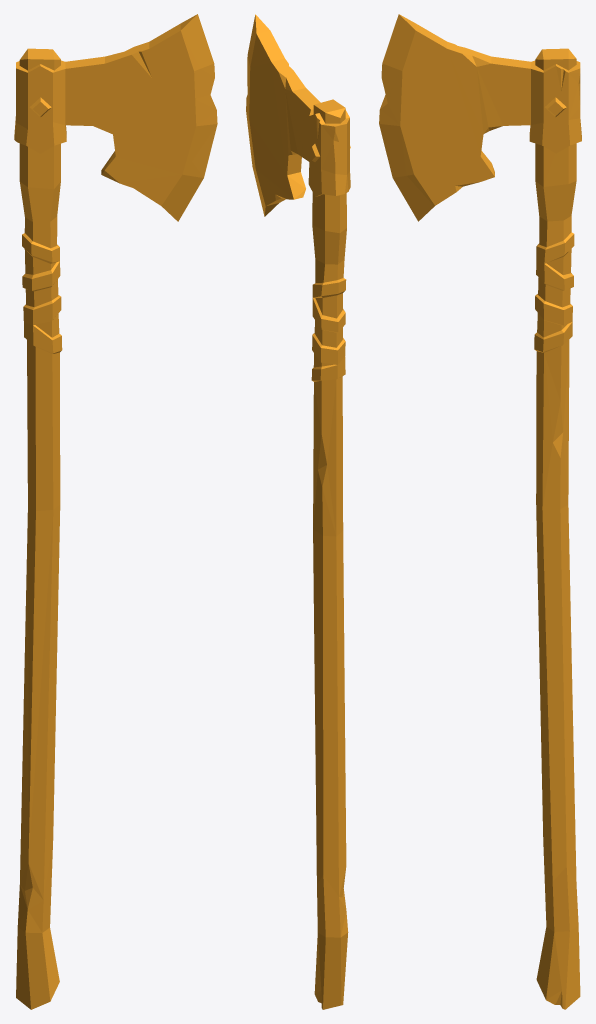
File: SM_Battle_Axe_Fantasy.fbx
3 views of the same model, side by side, from view 1: azimuth 90°, elevation 25°; view 2: azimuth 210°, elevation 25°; view 3: azimuth 270°, elevation 25° (orthographic). The views are drawn at different scales.
Parts seen in each view (by area): view 1: battle-axe-fantasy; view 2: battle-axe-fantasy; view 3: battle-axe-fantasy.
Part boxes in pixels (<box>): battle-axe-fantasy: <box>14,14,217,1009</box>; battle-axe-fantasy: <box>246,14,350,1009</box>; battle-axe-fantasy: <box>379,14,581,1009</box>.
Bounding box in the file's own units: 0.0459 × 1.16 × 0.2162.
